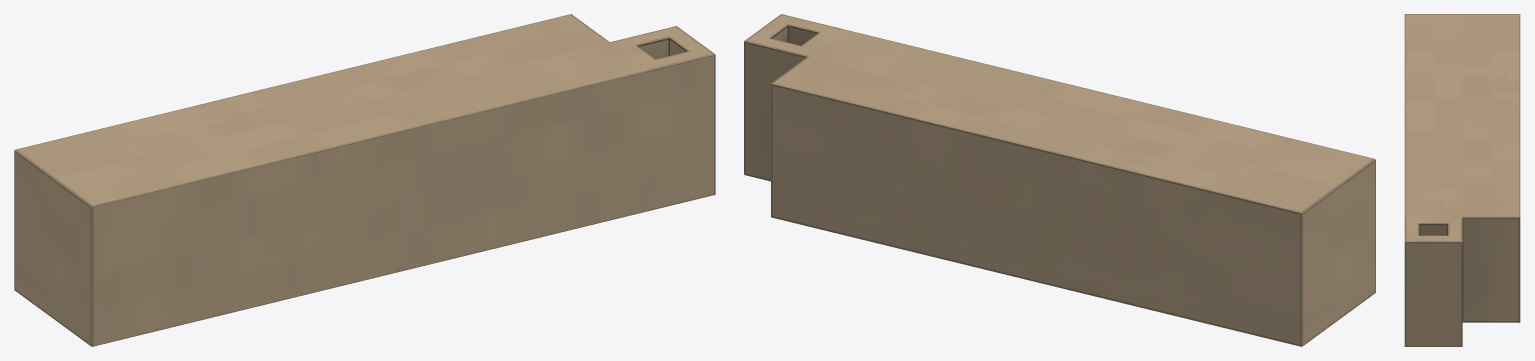
3 renders of one model, left to right at view 1: azimuth 30°, elevation 25°; view 2: azimuth 150°, elevation 25°; view 3: azimuth 270°, elevation 25°, orthographic. The views are drawn at different scales.
Visible parts, largest first — view 1: part-b; view 2: part-b; view 3: part-b.
Part boxes in pixels (box(x1,y1,x2,y2)): part-b: box(14, 14, 715, 346); part-b: box(744, 14, 1375, 346); part-b: box(1404, 14, 1520, 346).
Bounding box in the file's own units: 0.5608 × 0.1208 × 0.1208.
